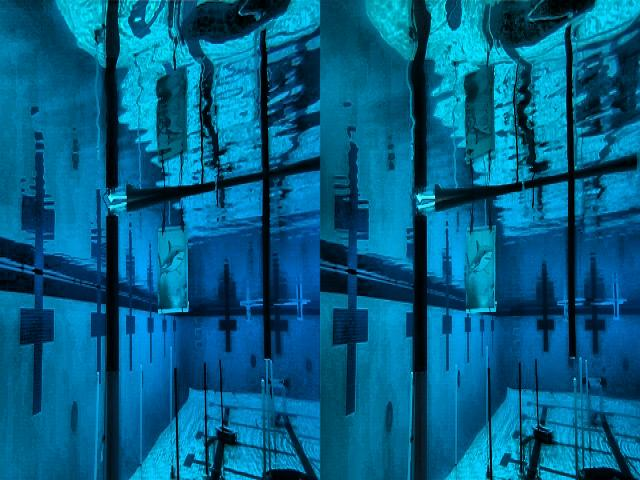gate: (414, 154, 640, 480), (106, 157, 320, 480)
octagon_table: (266, 378, 289, 431), (582, 378, 606, 426)
octagon_top: (557, 300, 624, 320), (240, 302, 310, 320)
path_marker: (520, 436, 534, 478), (205, 436, 218, 480)
shark: (465, 229, 495, 307), (158, 232, 188, 307)
